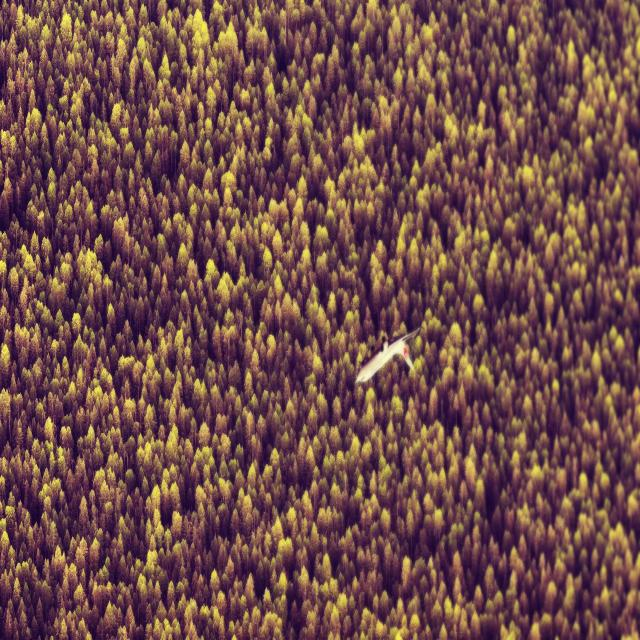airplane: (355, 325, 421, 384)
